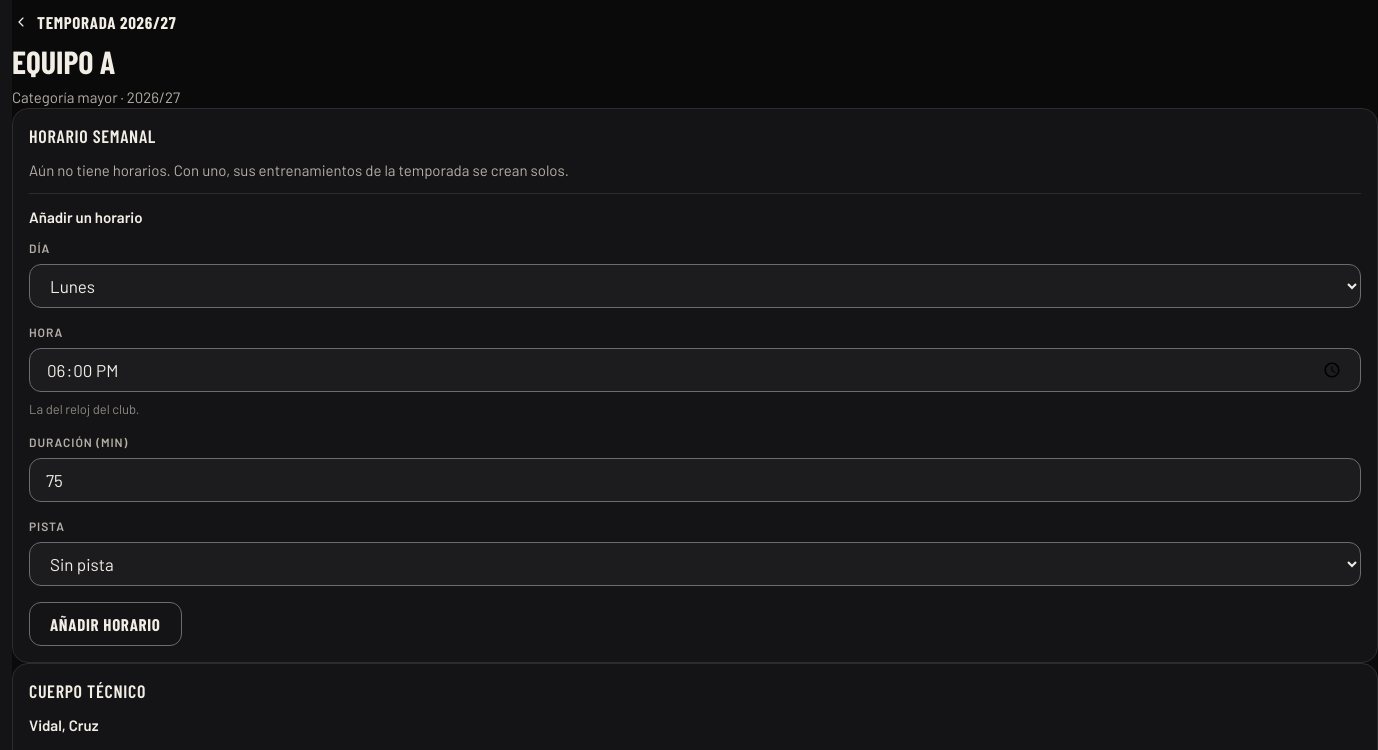
Test case: /admin/teams/[teamId] · horario semanal › el alta es para este equipo y este club: lo que se manda lleva su id
Click the button "Añadir horario". click: {"x": 105, "y": 624}
box: [29,602,182,646]
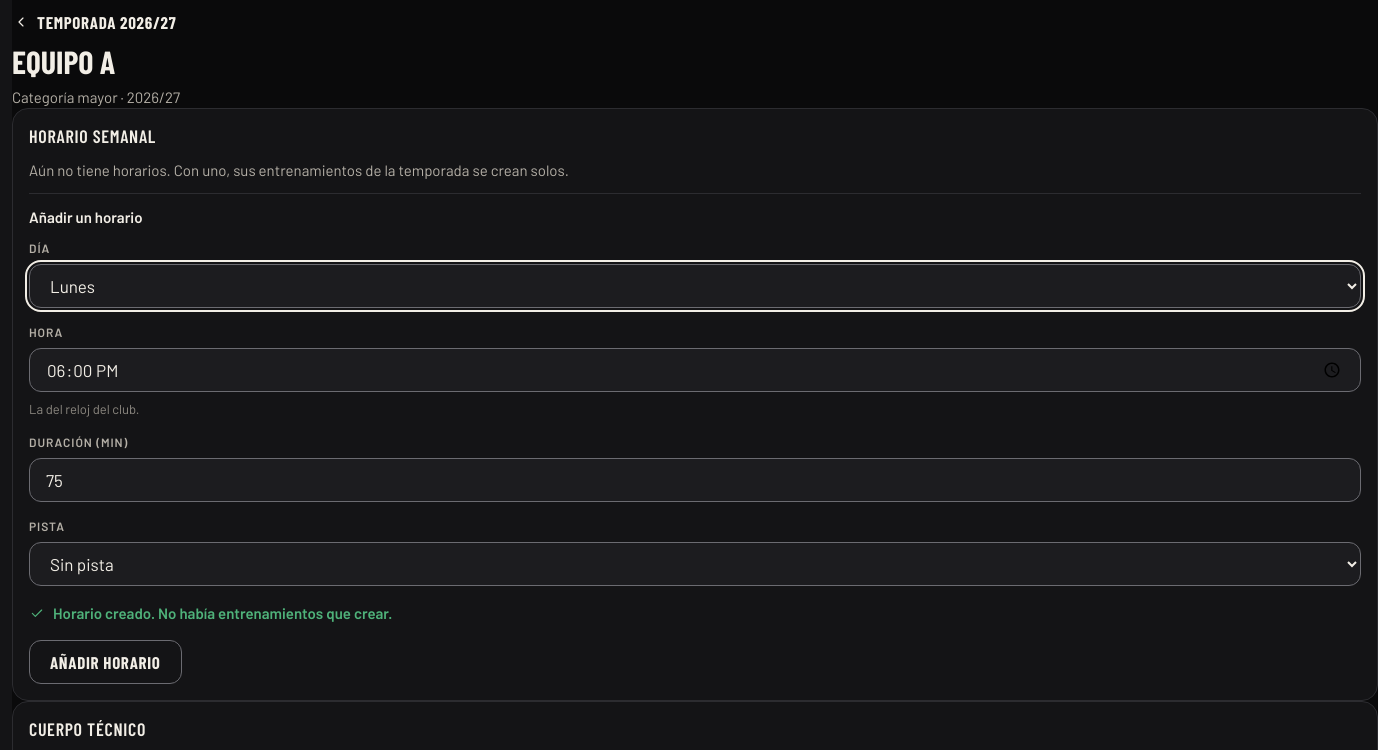
Expected: the text "Horario creado. No había entrenamientos que crear." is shown, [29,604,392,622]
